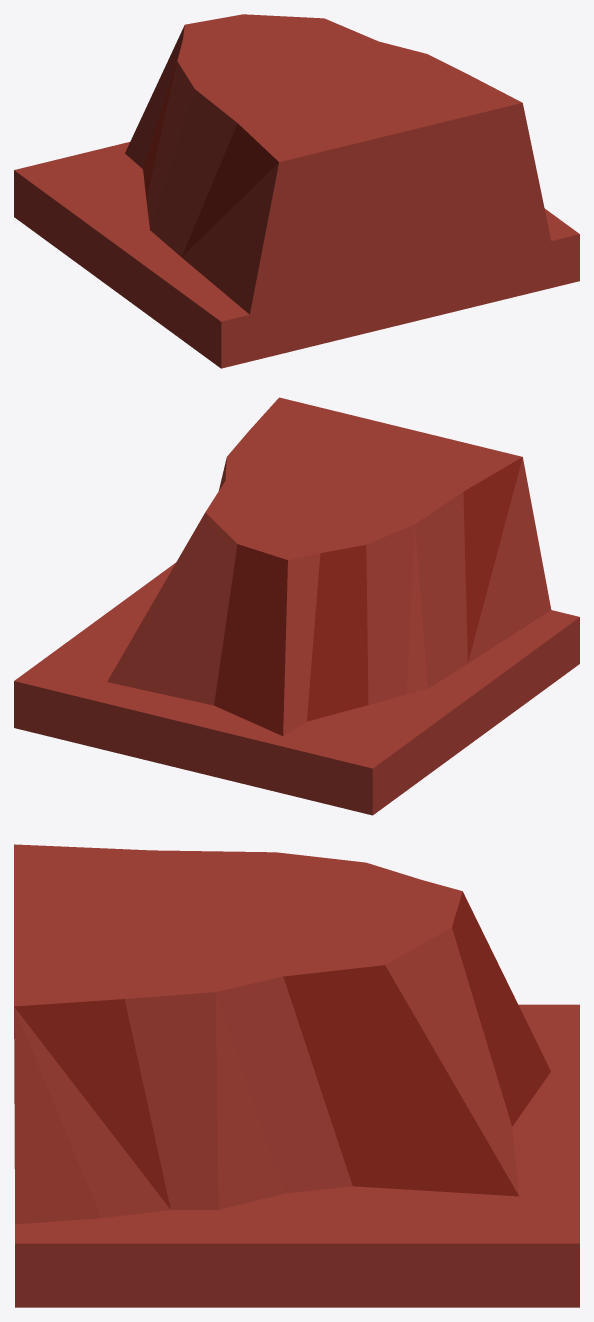
File: Field_10.fbx
The picture shows the model from 3 angles, top to bottom: view 1: azimuth 30°, elevation 25°; view 2: azimuth 150°, elevation 25°; view 3: azimuth 270°, elevation 25°; orthographic projection. The views are drawn at different scales.
Parts seen in each view (by area): view 1: Plane.010; view 2: Plane.010; view 3: Plane.010.
Part boxes in pixels (x1,y1,x2,y2): Plane.010: (14, 14, 579, 368); Plane.010: (14, 397, 579, 815); Plane.010: (14, 844, 579, 1307).
Size of the model in its own units: 400 by 205 by 401.
